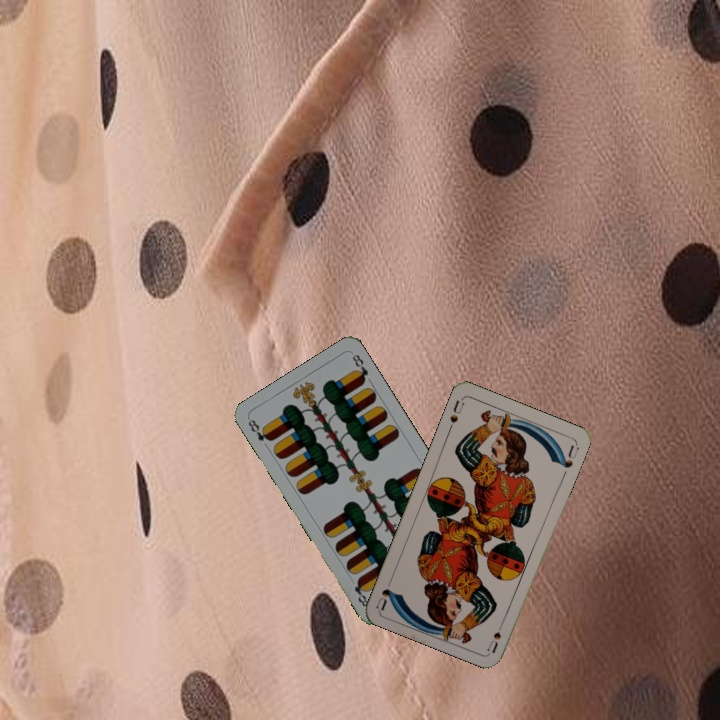E8: (244, 415, 274, 444)
SU: (483, 615, 507, 655), (444, 395, 467, 434)
